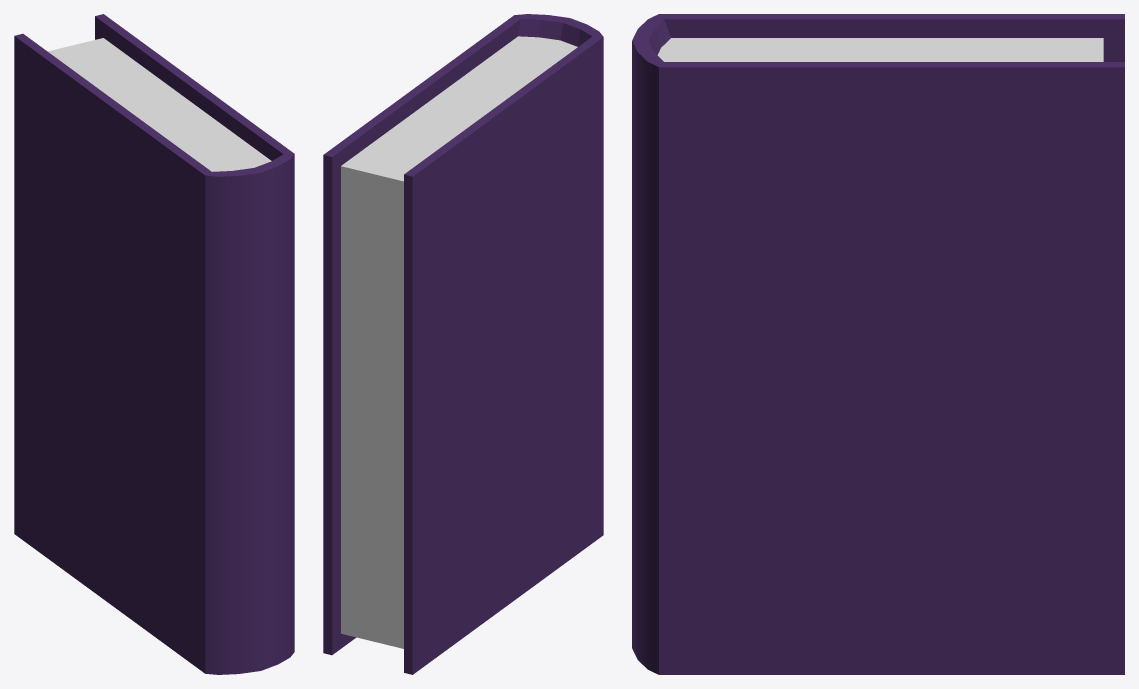
Rendered from Livre.fbx.
The picture shows the model from 3 angles, left to right: view 1: azimuth 30°, elevation 25°; view 2: azimuth 150°, elevation 25°; view 3: azimuth 270°, elevation 25°; orthographic projection. The views are drawn at different scales.
Parts seen in each view (by area): view 1: Livre; view 2: Livre; view 3: Livre.
Part boxes in pixels (left/top/right/bottom): Livre: left=14, top=14, right=294, bottom=674; Livre: left=323, top=14, right=603, bottom=674; Livre: left=632, top=14, right=1124, bottom=674.
Size of the model in its own units: 6.26 by 33.32 by 24.48.
